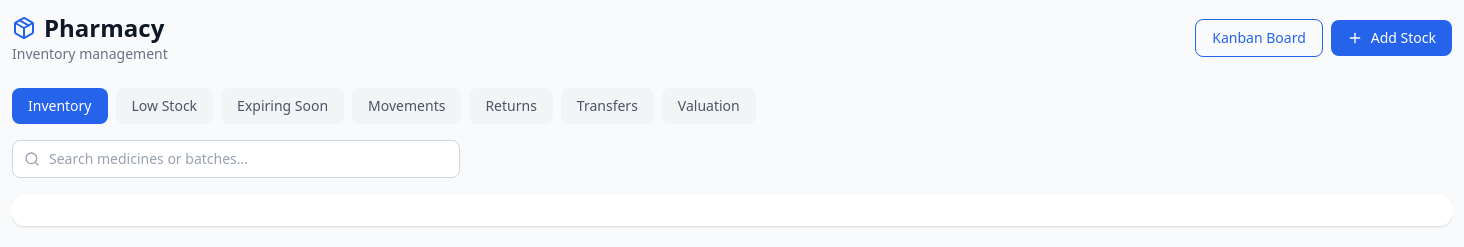
Test: PharmacyPage (inventory dashboard — full surface) › Returns tab refetches with /pharmacy/returns?limit=100 and renders rows when populated
The width and height of the screenshot is (1464, 247).
Click the button "Returns" at (511, 106), box [469,88,553,124]
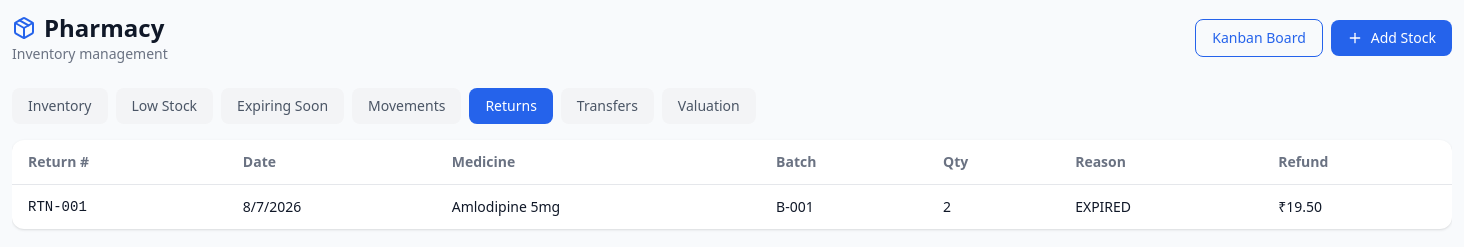
Now the text "RTN-001" is shown, box [12,184,227,229]
Now the text "EXPIRED" is shown, box [1059,184,1262,229]
Now the text "₹19.50" is shown, box [1262,184,1452,229]
